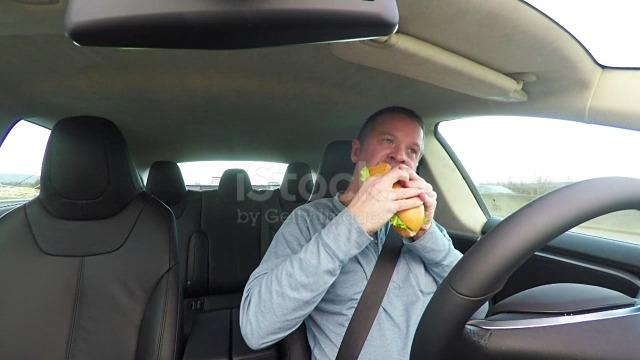Eating: (333, 87, 454, 256)
